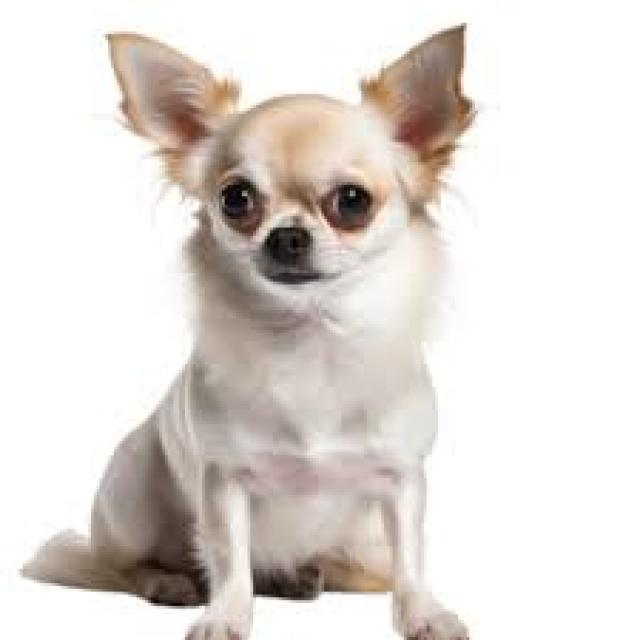dog: (20, 24, 482, 640)
